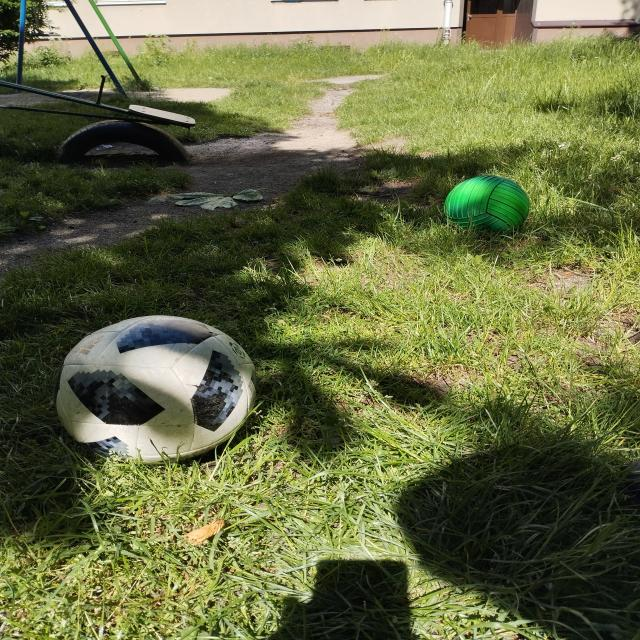nozna: (53, 315, 257, 464)
zielona: (444, 175, 530, 233)
